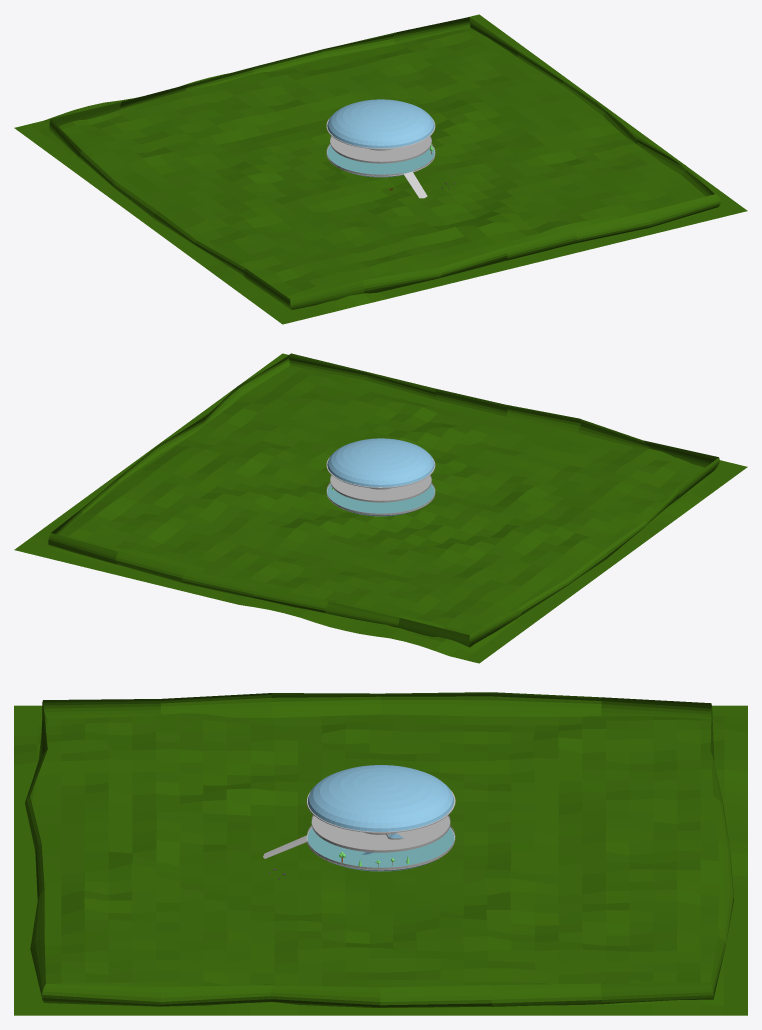
The model's file is detailed-glass-house9.glb.
The picture shows the model from 3 angles, top to bottom: view 1: azimuth 30°, elevation 25°; view 2: azimuth 150°, elevation 25°; view 3: azimuth 270°, elevation 25°; orthographic projection. The views are drawn at different scales.
Parts seen in each view (by area): view 1: ground, Plane, dome, floor2nd, floor; view 2: ground, Plane, dome, floor2nd, floor; view 3: ground, Plane, dome, floor2nd, floor.
Part boxes in pixels (x1,y1,x2,y2): ground: (14, 14, 747, 324); Plane: (49, 17, 720, 309); dome: (327, 99, 434, 148); floor2nd: (330, 136, 431, 163); floor: (327, 145, 434, 174); ground: (14, 353, 747, 663); Plane: (48, 353, 719, 647); dome: (327, 438, 434, 487); floor2nd: (330, 475, 431, 502); floor: (327, 484, 434, 513); ground: (14, 705, 747, 1015); Plane: (25, 692, 734, 1007); dome: (308, 765, 453, 831); floor2nd: (311, 815, 450, 852); floor: (307, 828, 454, 867).
Size of the model in its own units: 600 by 71.18 by 600.
